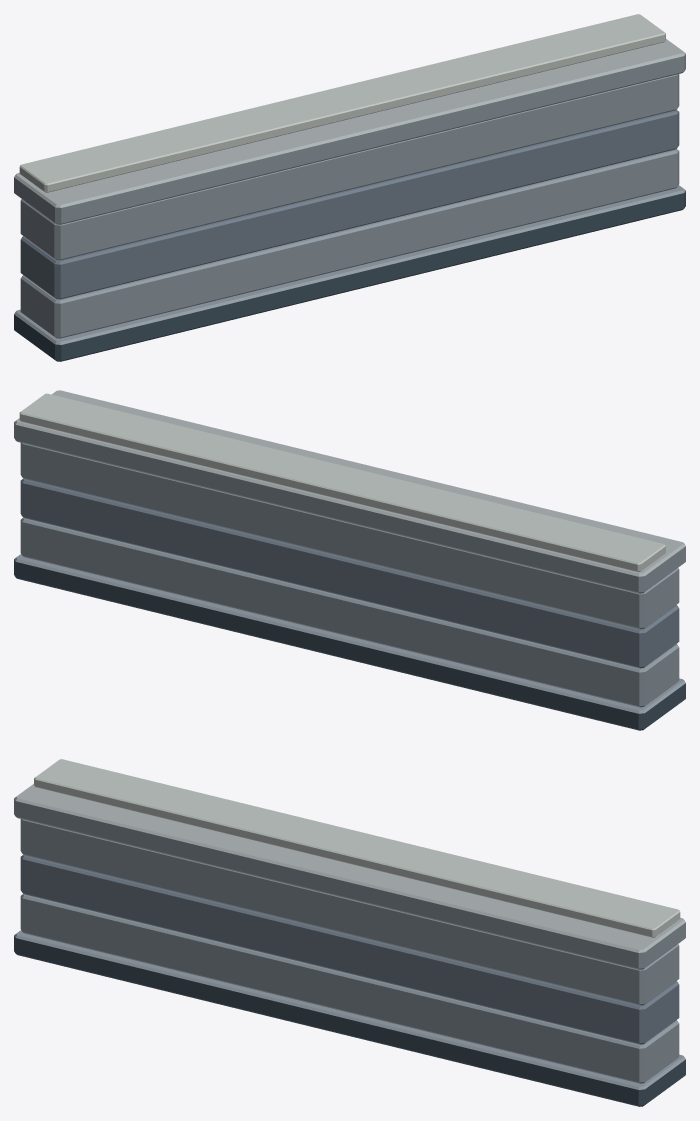
Rendered from wall-long.glb.
3 renders of one model, top to bottom at view 1: azimuth 30°, elevation 25°; view 2: azimuth 150°, elevation 25°; view 3: azimuth 330°, elevation 25°, orthographic.
Parts seen in each view (by area): view 1: wall-long__body; view 2: wall-long__body; view 3: wall-long__body.
Part boxes in pixels (x1,y1,x2,y2): wall-long__body: [14, 14, 685, 361]; wall-long__body: [14, 390, 685, 730]; wall-long__body: [14, 759, 685, 1106].
Size of the model in its own units: 4 by 1 by 0.5.
